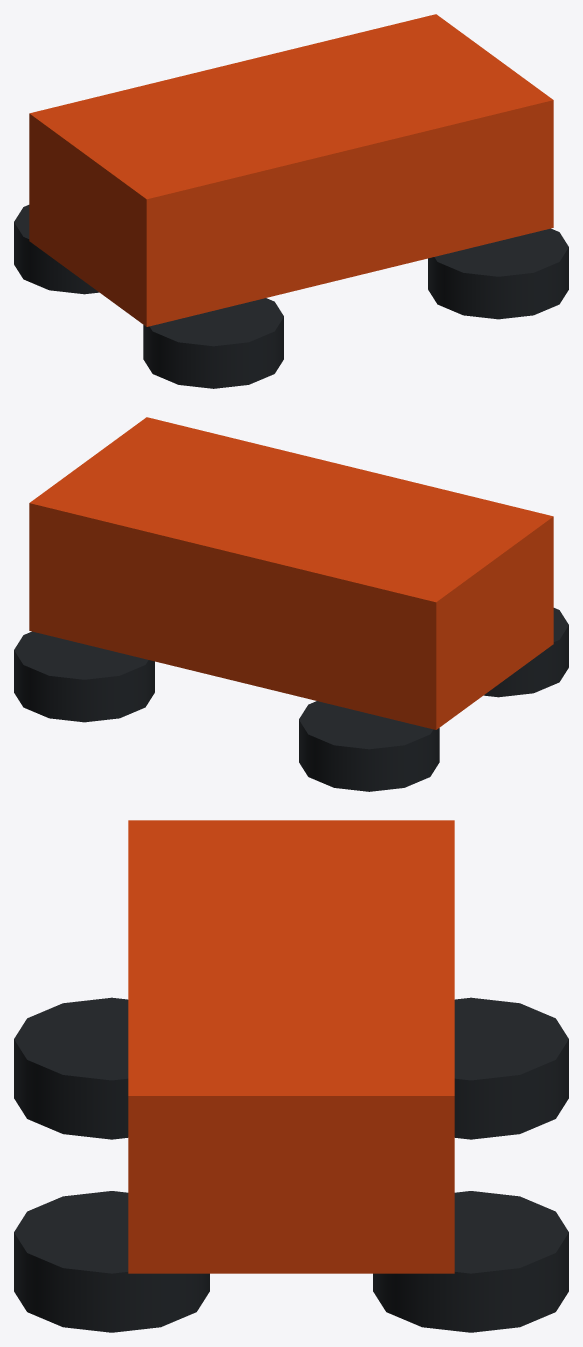
File: nested-mesh.glb
The picture shows the model from 3 angles, top to bottom: view 1: azimuth 30°, elevation 25°; view 2: azimuth 150°, elevation 25°; view 3: azimuth 270°, elevation 25°; orthographic projection. The views are drawn at different scales.
Parts seen in each view (by area): view 1: BodyMesh, WheelMesh1, WheelMesh3, WheelMesh2; view 2: BodyMesh, WheelMesh2, WheelMesh4, WheelMesh1; view 3: BodyMesh, WheelMesh3, WheelMesh4, WheelMesh1, WheelMesh2.
Part boxes in pixels (x1,y1,x2,y2): BodyMesh: [29, 14, 553, 326]; WheelMesh1: [143, 298, 283, 388]; WheelMesh3: [428, 228, 568, 319]; WheelMesh2: [14, 205, 98, 294]; BodyMesh: [29, 417, 553, 729]; WheelMesh2: [299, 701, 439, 791]; WheelMesh4: [14, 631, 154, 722]; WheelMesh1: [484, 608, 568, 697]; BodyMesh: [128, 820, 454, 1273]; WheelMesh3: [14, 1191, 209, 1332]; WheelMesh4: [373, 1191, 568, 1332]; WheelMesh1: [14, 997, 128, 1139]; WheelMesh2: [454, 997, 568, 1139].
Bounding box in the file's own units: 2 × 0.8 × 1.7.
